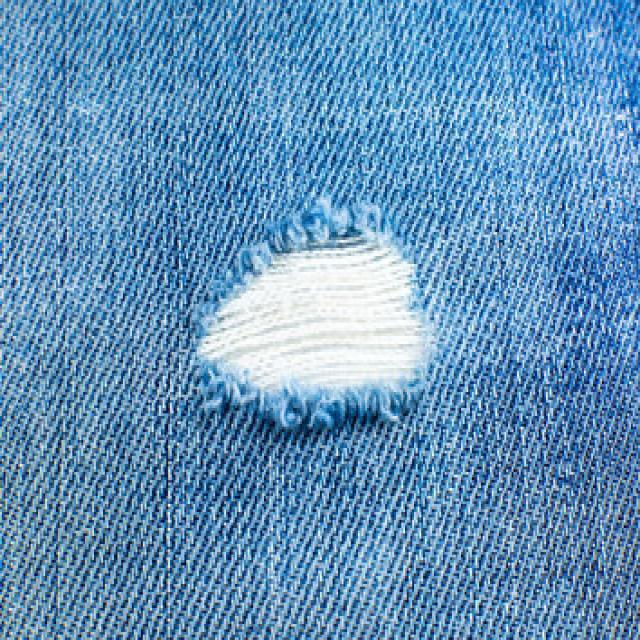Hole: (198, 233, 435, 430)
